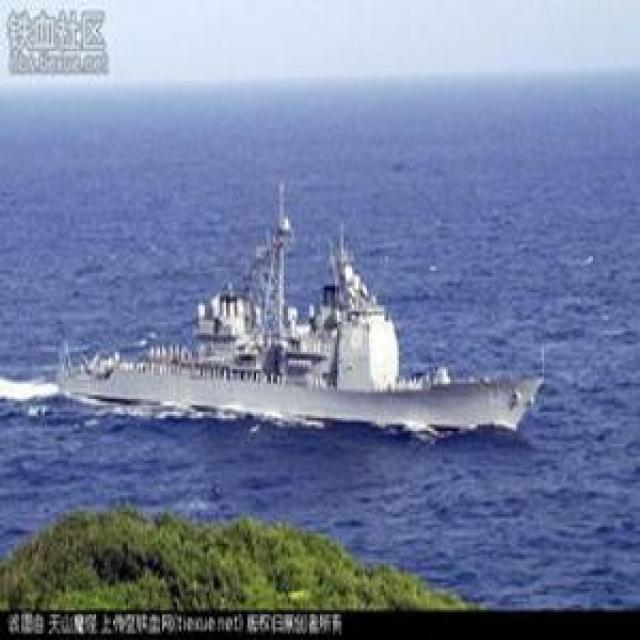navalvessels: (45, 195, 544, 435)
